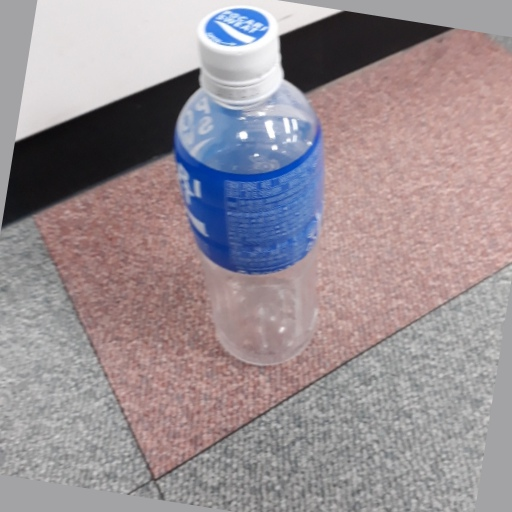Plastic_0: (176, 4, 322, 366)
